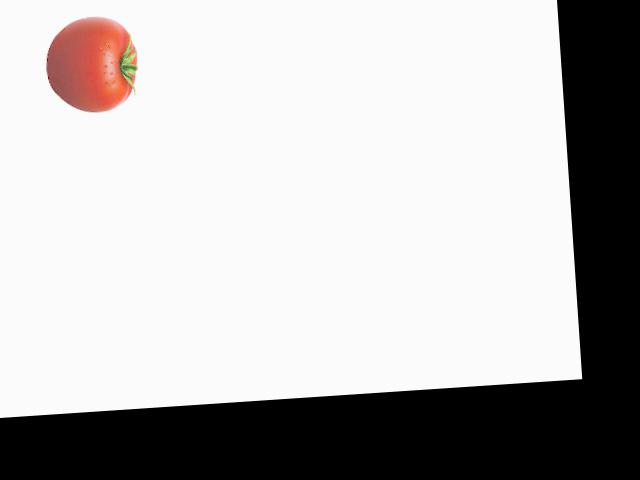tomato: (43, 25, 140, 115)
